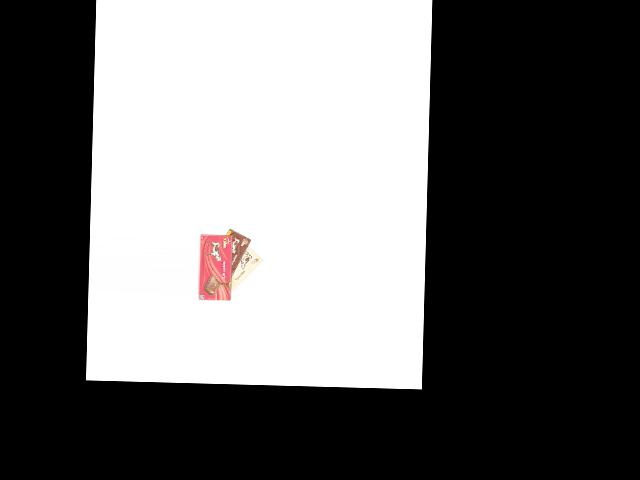chocolate: (224, 238, 264, 299)
